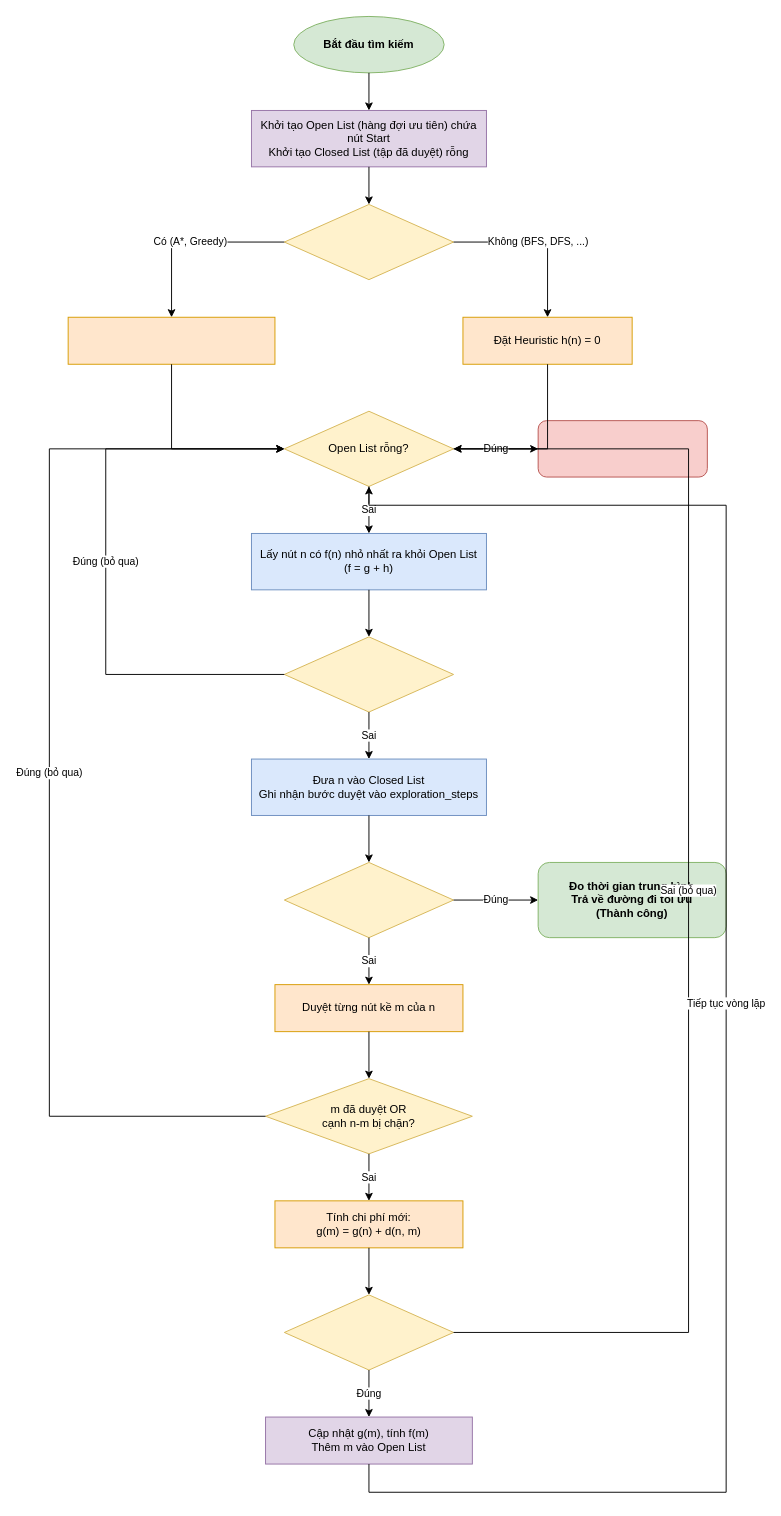
This 781x1516 diagram has some shape labels left out. The shapes that lost their labels are listed below. From the top down, each one's centre as x and y in pixels, then its label:
the point at 368,242: Thuật toán cần Heuristic?
the point at 171,340: Tính h(n) bằng khoảng cách Haversine * 0.6
the point at 622,448: Không tìm thấy đường (Thất bại)
the point at 368,674: n đã thuộc Closed List?
the point at 368,900: n == End (Đích)?
the point at 368,1332: g(m) tốt hơn chi phí cũ?
